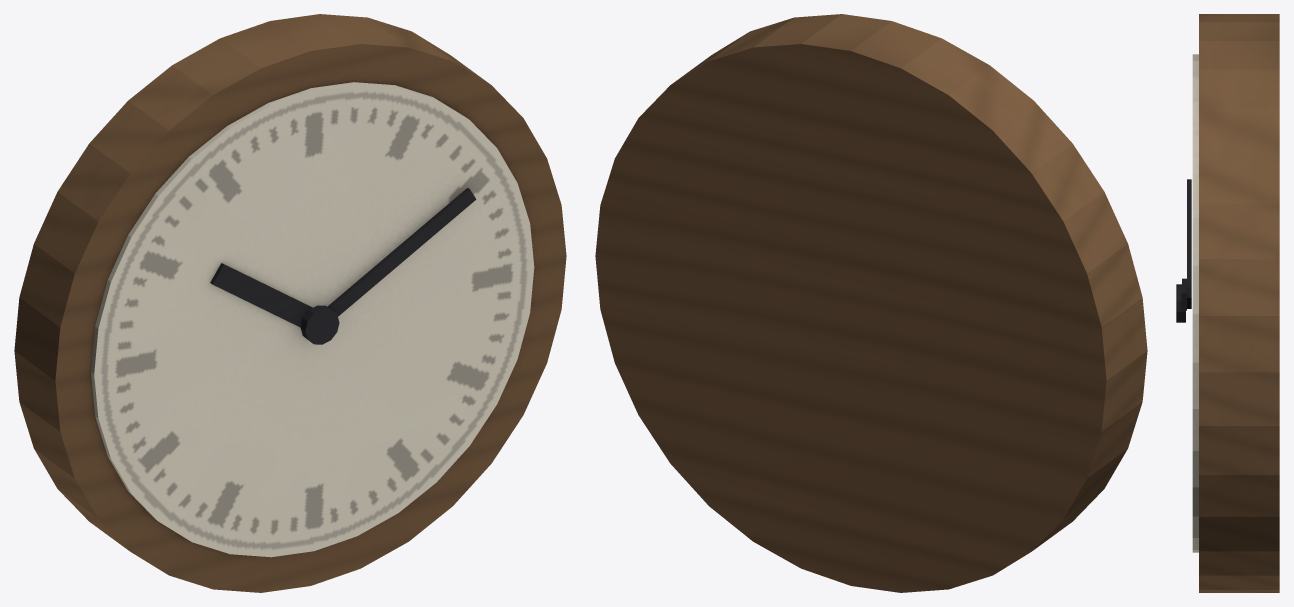
Rendered from wall_clock.glb.
3 views of the same model, side by side, from view 1: azimuth 30°, elevation 25°; view 2: azimuth 150°, elevation 25°; view 3: azimuth 270°, elevation 25° (orthographic).
Visible parts, largest first — view 1: wall_clock; view 2: wall_clock; view 3: wall_clock.
Part boxes in pixels (left/top/right/bottom): wall_clock: left=14, top=14, right=566, bottom=592; wall_clock: left=595, top=14, right=1147, bottom=592; wall_clock: left=1176, top=14, right=1279, bottom=592.
Bounding box in the file's own units: 0.36 × 0.36 × 0.064.
Materials: 3 (3 with a texture image).
